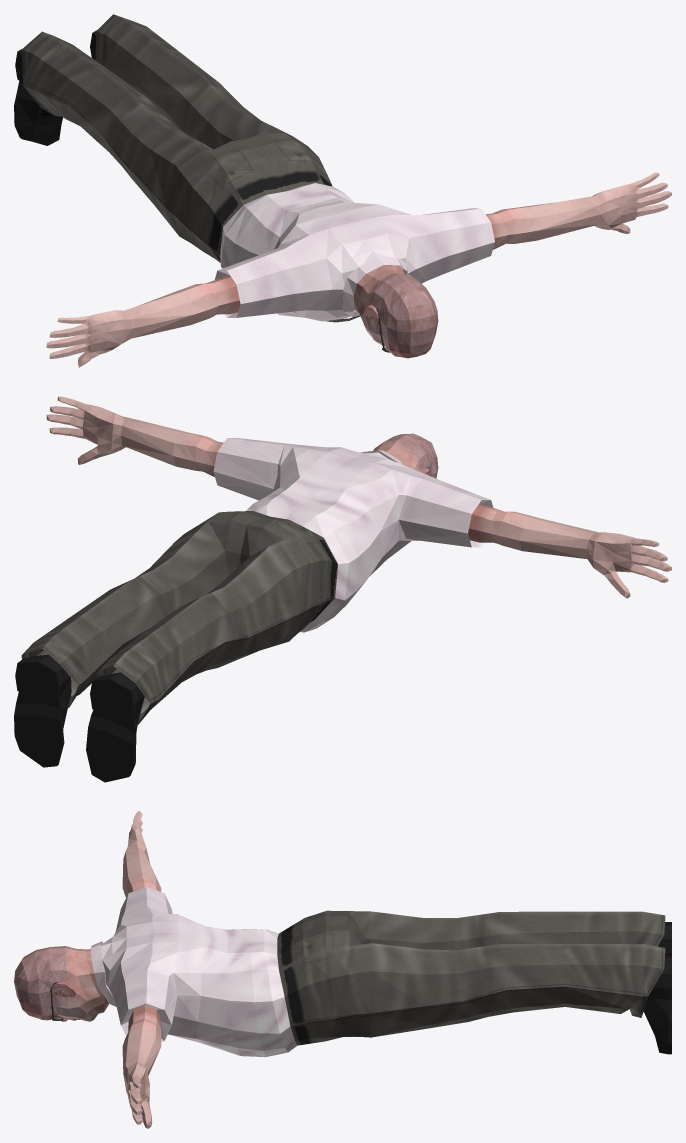
The model's file is tomdrinman2_3k_wtf.obj.
3 renders of one model, top to bottom at view 1: azimuth 30°, elevation 25°; view 2: azimuth 150°, elevation 25°; view 3: azimuth 270°, elevation 25°, orthographic. The views are drawn at different scales.
Visible parts, largest first — view 1: group1; view 2: group1; view 3: group1.
Part boxes in pixels (<box>): group1: <box>14,14,671,367</box>; group1: <box>14,396,671,782</box>; group1: <box>14,811,671,1128</box>.
Bounding box in the file's own units: 660 × 141 × 641.
